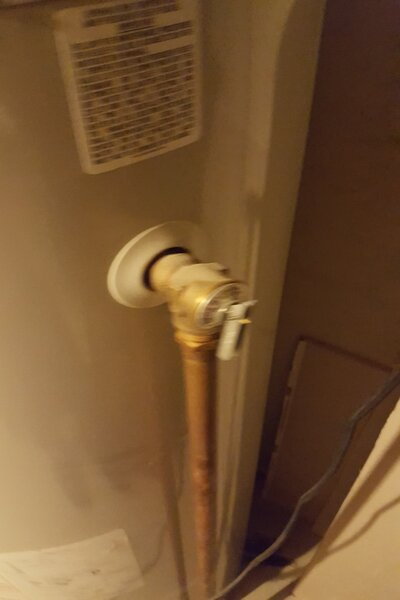valve: (142, 249, 254, 399)
